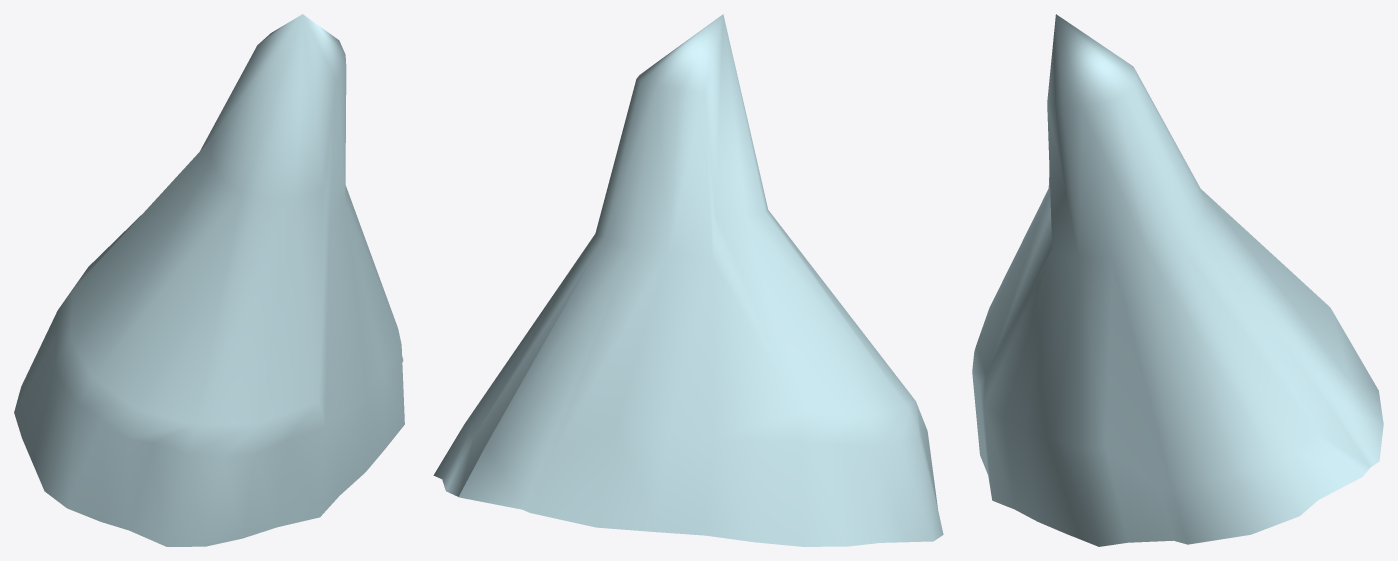
The model's file is icebergsmall.FBX.
3 renders of one model, left to right at view 1: azimuth 30°, elevation 25°; view 2: azimuth 150°, elevation 25°; view 3: azimuth 270°, elevation 25°, orthographic. The views are drawn at different scales.
Visible parts, largest first — view 1: Boîte004; view 2: Boîte004; view 3: Boîte004.
Boxes of the visible parts, x1=… form: Boîte004: x1=14, y1=14, x2=404, y2=546; Boîte004: x1=433, y1=14, x2=943, y2=546; Boîte004: x1=972, y1=14, x2=1383, y2=546.
Bounding box in the file's own units: 206 × 232 × 175.
